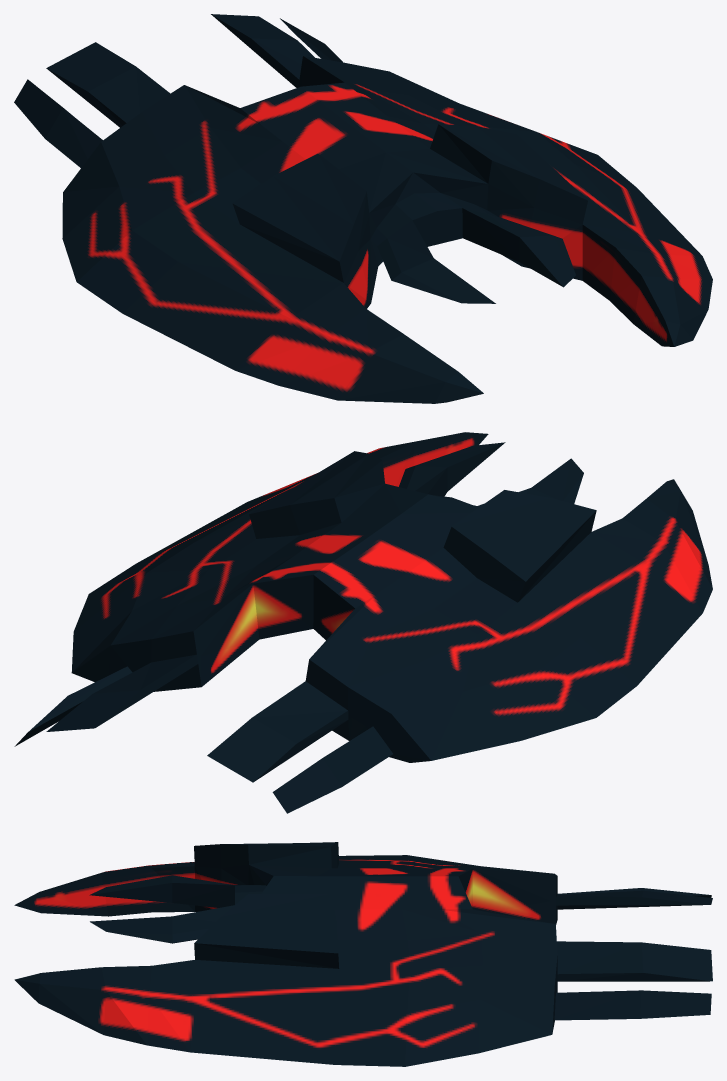
The model's file is Enemy_worm_Mesh.fbx.
3 renders of one model, top to bottom at view 1: azimuth 30°, elevation 25°; view 2: azimuth 150°, elevation 25°; view 3: azimuth 270°, elevation 25°, orthographic. The views are drawn at different scales.
Parts seen in each view (by area): view 1: Enemy_worm_Mesh; view 2: Enemy_worm_Mesh; view 3: Enemy_worm_Mesh.
Part boxes in pixels (box(x1,y1,x2,y2)): Enemy_worm_Mesh: box(14, 14, 712, 403); Enemy_worm_Mesh: box(14, 432, 712, 813); Enemy_worm_Mesh: box(14, 842, 712, 1066).
Size of the model in its own units: 291 by 64.14 by 420.
